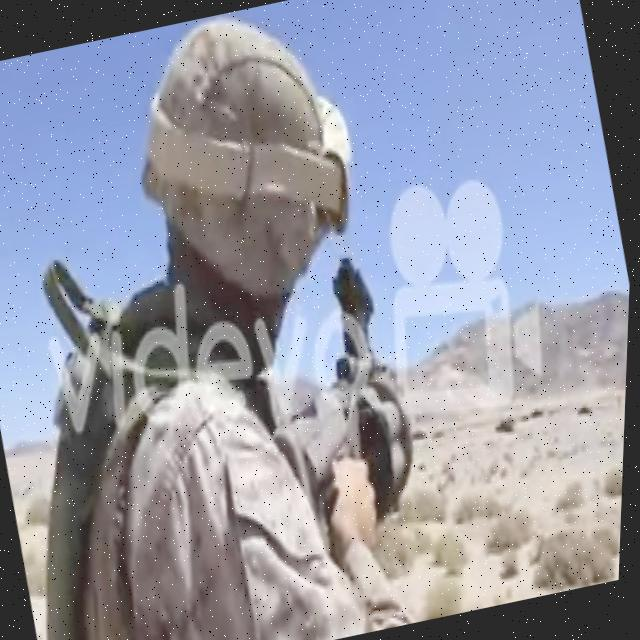rocket: (248, 256, 461, 558)
